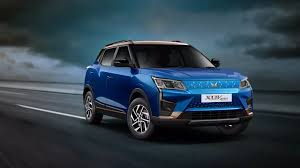XUV 400: (81, 37, 256, 141)
